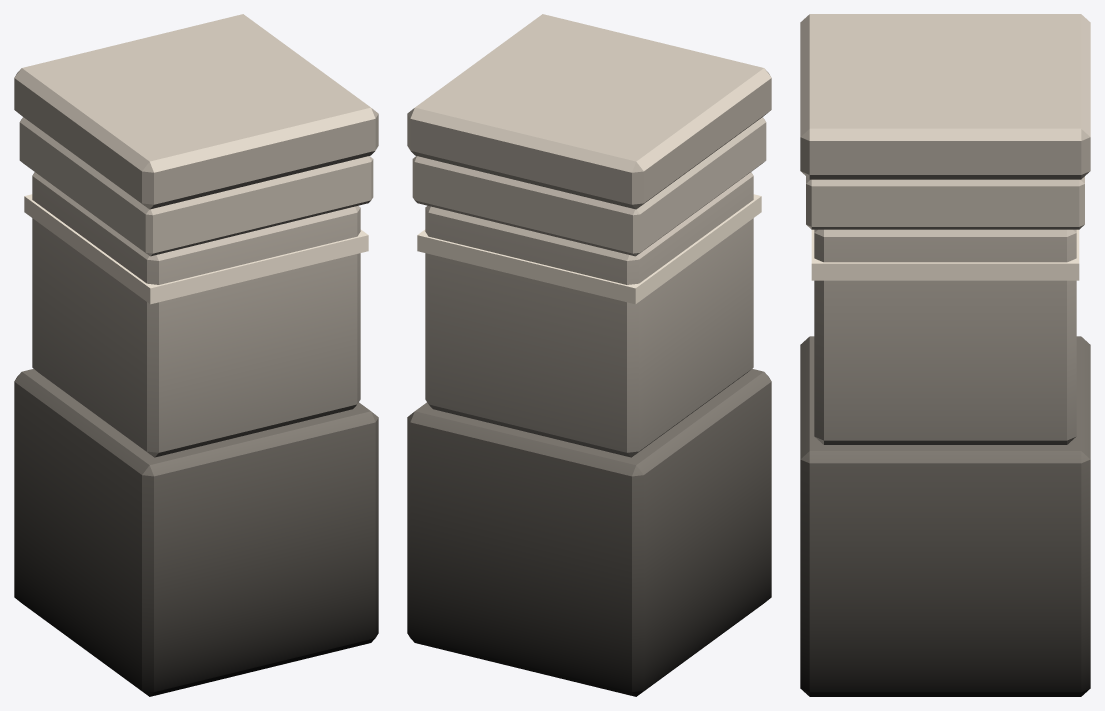
File: SM_VKI_Post_Dwarf_Corner_Cut.fbx
3 renders of one model, left to right at view 1: azimuth 30°, elevation 25°; view 2: azimuth 150°, elevation 25°; view 3: azimuth 270°, elevation 25°, orthographic. The views are drawn at different scales.
Visible parts, largest first — view 1: SM_VKI_Post_Dwarf_Corner_Cut.001; view 2: SM_VKI_Post_Dwarf_Corner_Cut.001; view 3: SM_VKI_Post_Dwarf_Corner_Cut.001.
Part boxes in pixels (left/top/right/bottom): SM_VKI_Post_Dwarf_Corner_Cut.001: left=14, top=14, right=378, bottom=696; SM_VKI_Post_Dwarf_Corner_Cut.001: left=407, top=14, right=771, bottom=696; SM_VKI_Post_Dwarf_Corner_Cut.001: left=800, top=14, right=1090, bottom=696.
Size of the model in its own units: 0.62 by 1.34 by 0.62.
